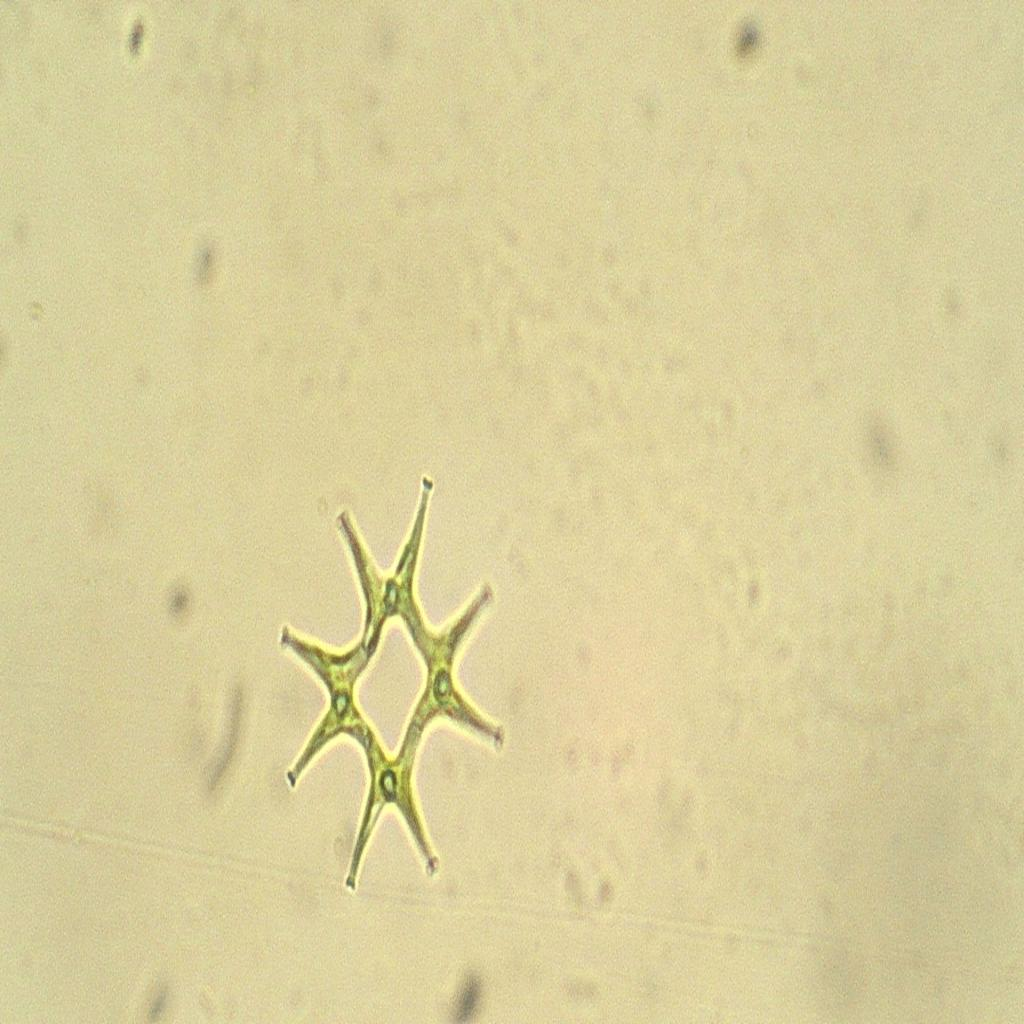Pediastrum_10: (262, 468, 514, 902)
